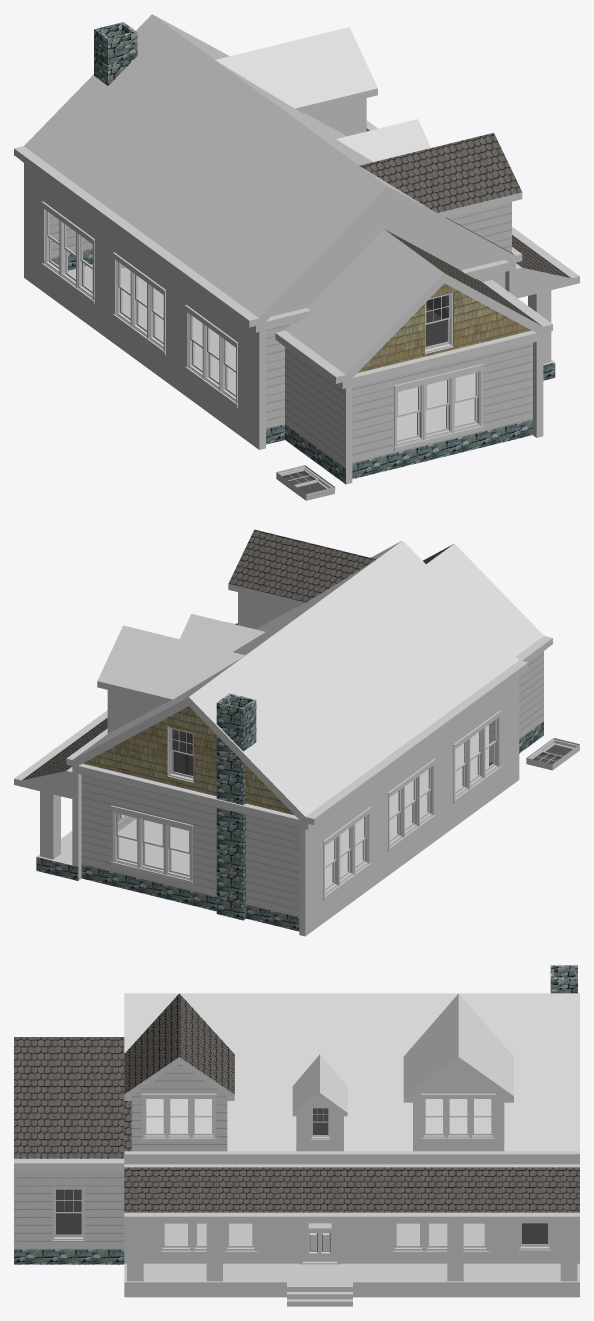
File: Farm+House.glb
3 views of the same model, one above another, from view 1: azimuth 30°, elevation 25°; view 2: azimuth 150°, elevation 25°; view 3: azimuth 270°, elevation 25° (orthographic). The views are drawn at different scales.
Visible parts, largest first — view 1: _(Loose Entity), C-Window-3lite 8'-6x5'-4.004, C-Window-3lite 8'-6x5'-4.005, C-Window-3lite 8'-6x5'-4.007, C-Window-3lite 8'-6x5'-4.006, WindowDoubleHung35x63, C-Upper_sash.003, C-Lower_sash.003; view 2: _(Loose Entity), C-Window-3lite 8'-6x5'-4.008, C-Window-3lite 8'-6x5'-4.006, C-Window-3lite 8'-6x5'-4.005, C-Window-3lite 8'-6x5'-4.007, WindowDoubleHung35x63, C-Upper_sash.004, C-Lower_sash.004; view 3: _(Loose Entity), C-Window-3lite 8'-6x5'-4, C-Window-3lite 8'-6x5'-4.001, C-Door-SglExtHeaderWLite 3'-0x6'-8, C-Window-3lite 8'-6x5'-4.002, C-Window-3lite 8'-6x5'-4.003, C-Upper_sash.002, C-Lower_sash.002, C-Lower_sash.001.
Boxes of the visible parts, <box> form: _(Loose Entity): <box>14,14,579,484</box>; C-Window-3lite 8'-6x5'-4.004: <box>393,364,483,451</box>; C-Window-3lite 8'-6x5'-4.005: <box>41,201,94,304</box>; C-Window-3lite 8'-6x5'-4.007: <box>112,252,165,355</box>; C-Window-3lite 8'-6x5'-4.006: <box>185,305,238,407</box>; WindowDoubleHung35x63: <box>276,465,335,500</box>; C-Upper_sash.003: <box>425,294,450,324</box>; C-Lower_sash.003: <box>425,318,449,349</box>; _(Loose Entity): <box>14,529,552,936</box>; C-Window-3lite 8'-6x5'-4.008: <box>110,805,192,884</box>; C-Window-3lite 8'-6x5'-4.006: <box>453,710,501,803</box>; C-Window-3lite 8'-6x5'-4.005: <box>323,807,371,900</box>; C-Window-3lite 8'-6x5'-4.007: <box>387,758,435,852</box>; WindowDoubleHung35x63: <box>526,738,579,770</box>; C-Upper_sash.004: <box>170,728,193,755</box>; C-Lower_sash.004: <box>171,750,193,778</box>; _(Loose Entity): <box>14,965,579,1306</box>; C-Window-3lite 8'-6x5'-4: <box>141,1093,216,1141</box>; C-Window-3lite 8'-6x5'-4.001: <box>421,1093,495,1141</box>; C-Door-SglExtHeaderWLite 3'-0x6'-8: <box>298,1223,341,1264</box>; C-Window-3lite 8'-6x5'-4.002: <box>158,1223,258,1255</box>; C-Window-3lite 8'-6x5'-4.003: <box>390,1223,490,1255</box>; C-Upper_sash.002: <box>54,1188,82,1213</box>; C-Lower_sash.002: <box>54,1211,82,1237</box>; C-Lower_sash.001: <box>520,1223,549,1246</box>.
Bounding box in the file's own units: 10.21 × 7.06 × 15.65.
Materials: 8 (4 with a texture image).
